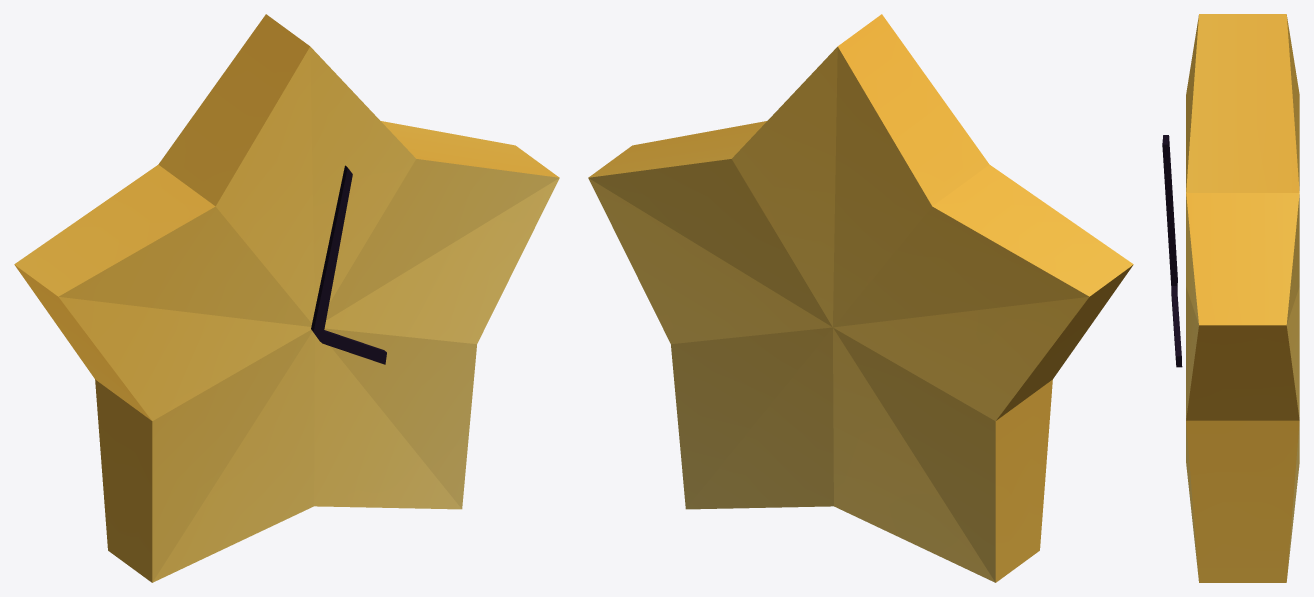
Rendered from Prop_Clock_Star.fbx.
3 views of the same model, side by side, from view 1: azimuth 30°, elevation 25°; view 2: azimuth 150°, elevation 25°; view 3: azimuth 270°, elevation 25° (orthographic).
Parts seen in each view (by area): view 1: Cube.074; view 2: Cube.074; view 3: Cube.074.
Part boxes in pixels (x1=…): Cube.074: x1=14, y1=14, x2=559, y2=582; Cube.074: x1=588, y1=14, x2=1133, y2=582; Cube.074: x1=1162, y1=14, x2=1299, y2=582.
Bounding box in the file's own units: 26.39 × 25.15 × 6.32.
